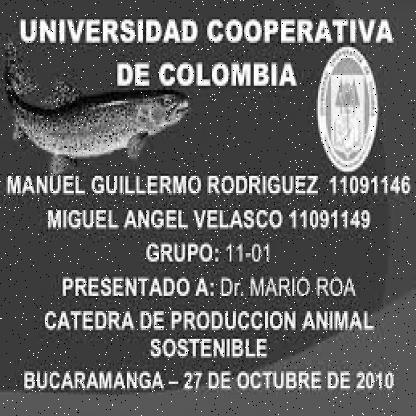fish: (3, 35, 191, 169)
